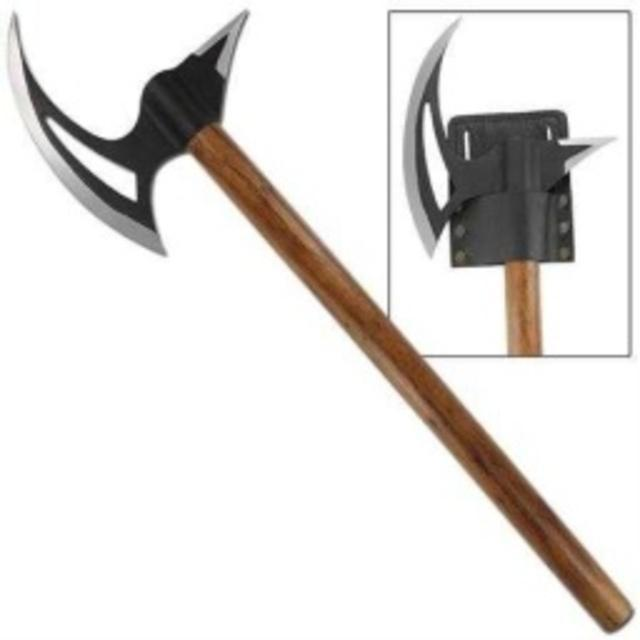ax: (4, 8, 640, 638), (388, 0, 624, 358)
